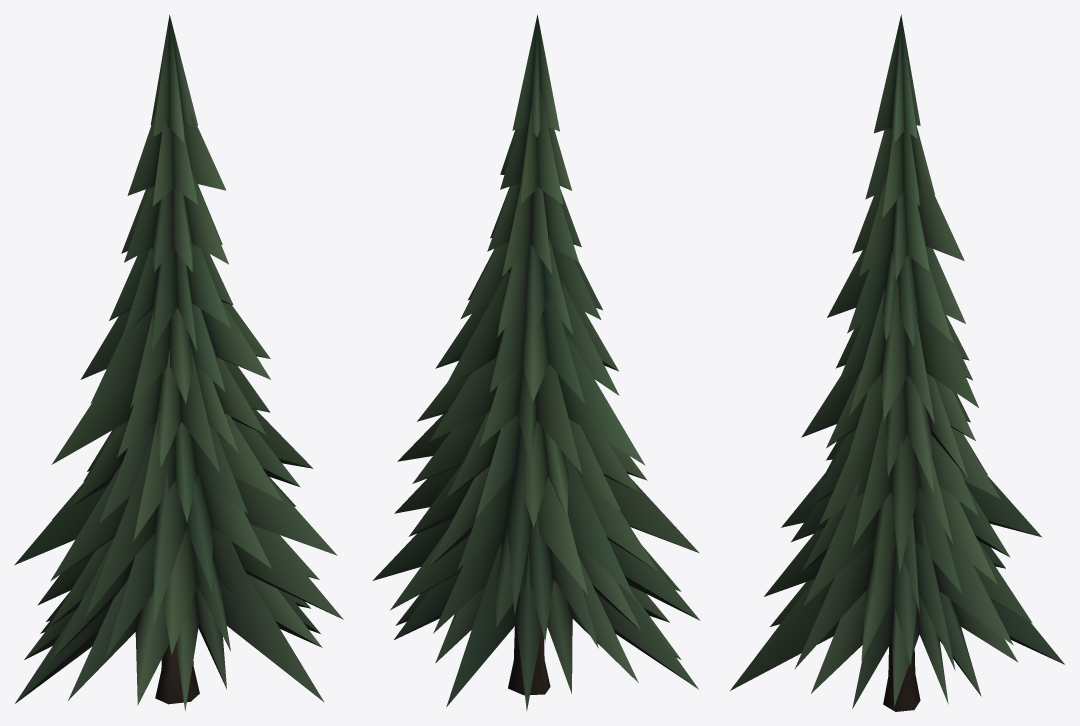
Rendered from pine_a.glb.
3 views of the same model, side by side, from view 1: azimuth 30°, elevation 25°; view 2: azimuth 150°, elevation 25°; view 3: azimuth 270°, elevation 25° (orthographic).
Parts seen in each view (by area): view 1: PineA; view 2: PineA; view 3: PineA.
Part boxes in pixels (left/top/right/bottom): PineA: left=14, top=15, right=343, bottom=710; PineA: left=372, top=14, right=700, bottom=710; PineA: left=730, top=14, right=1064, bottom=711.
Bounding box in the file's own units: 8.48 × 18.3 × 8.14.
